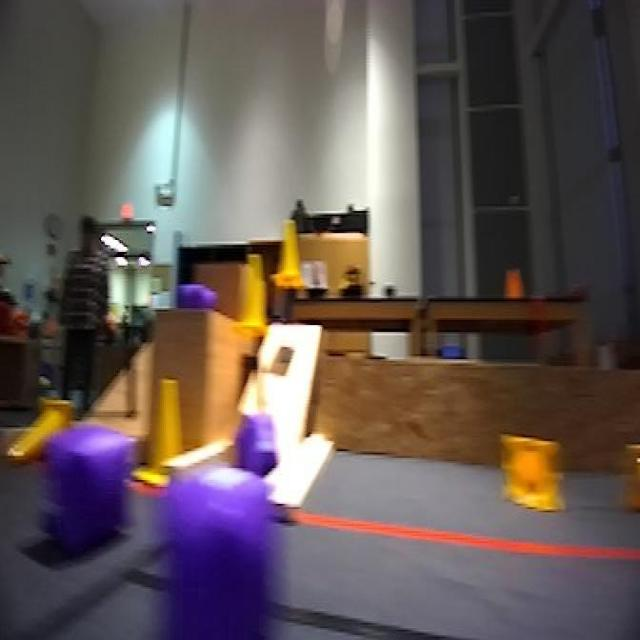frc_cone: (499, 430, 567, 518), (5, 393, 70, 470), (148, 373, 182, 468), (274, 213, 308, 284), (236, 252, 266, 328), (624, 437, 640, 516)
frc_cube: (179, 481, 291, 640), (44, 439, 126, 564), (227, 410, 283, 504), (178, 274, 218, 315)
